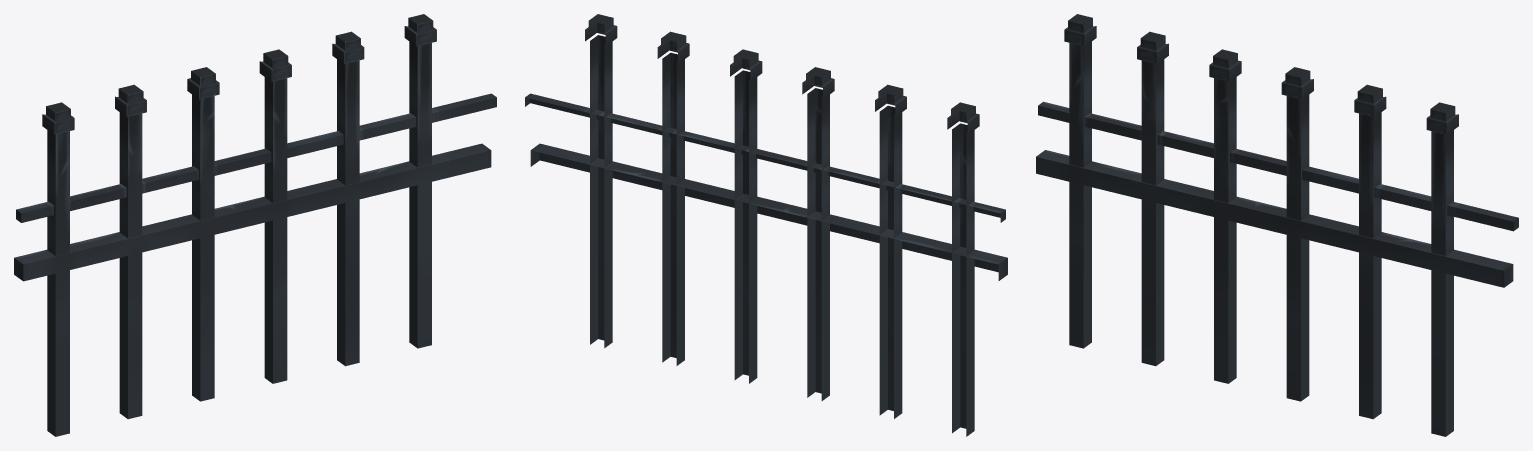
The model's file is SM_fence.FBX.
3 renders of one model, left to right at view 1: azimuth 30°, elevation 25°; view 2: azimuth 150°, elevation 25°; view 3: azimuth 330°, elevation 25°, orthographic.
Visible parts, largest first — view 1: fence00; view 2: fence00; view 3: fence00.
Boxes of the visible parts, x1,y1,x2,y2 form: fence00: [14, 14, 496, 436]; fence00: [525, 14, 1007, 436]; fence00: [1036, 14, 1518, 436].
Size of the model in its own units: 634 by 413 by 27.24.
Materials: 1 (1 with a texture image).
